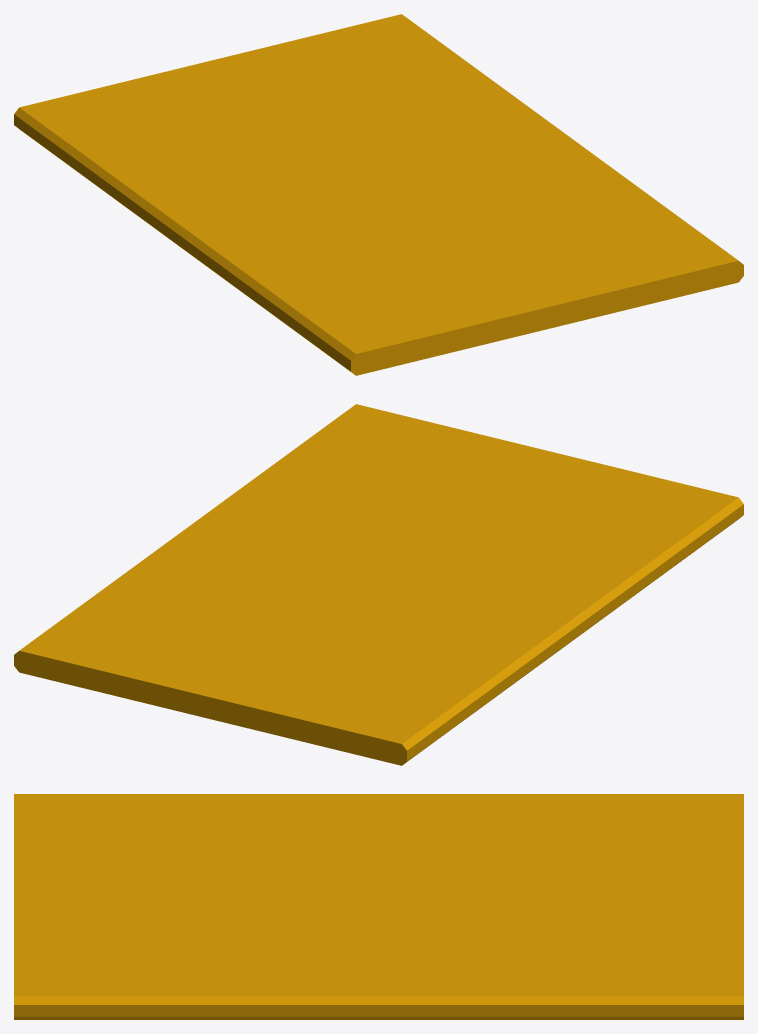
The model's file is busdoorleaf-canonical.obj.
3 renders of one model, top to bottom at view 1: azimuth 30°, elevation 25°; view 2: azimuth 150°, elevation 25°; view 3: azimuth 270°, elevation 25°, orthographic. The views are drawn at different scales.
Visible parts, largest first — view 1: LeafFrame; view 2: LeafFrame; view 3: LeafFrame.
Part boxes in pixels (x1=…): LeafFrame: x1=14, y1=14, x2=743, y2=375; LeafFrame: x1=14, y1=404, x2=743, y2=765; LeafFrame: x1=14, y1=794, x2=743, y2=1019.
Bounding box in the file's own units: 132 × 7 × 196.
